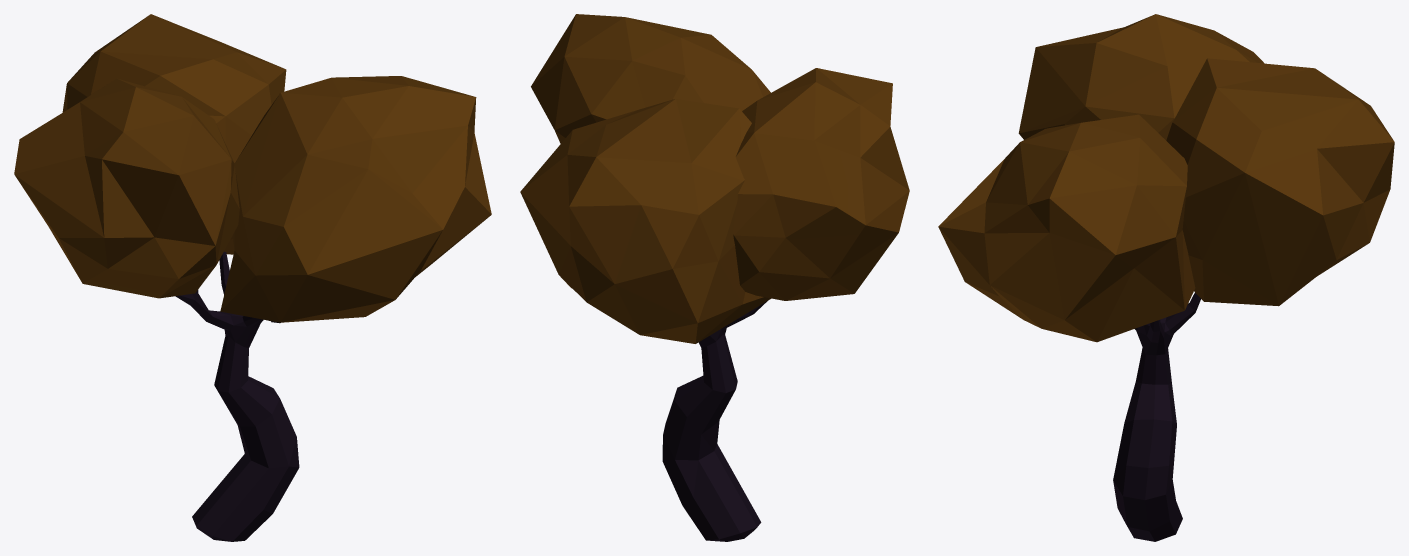
Rendered from Tree02_JT 1.fbx.
The picture shows the model from 3 angles, left to right: view 1: azimuth 30°, elevation 25°; view 2: azimuth 150°, elevation 25°; view 3: azimuth 270°, elevation 25°; orthographic projection.
Parts seen in each view (by area): view 1: Tree02_JT; view 2: Tree02_JT; view 3: Tree02_JT.
Boxes of the visible parts, bbox=[...] form: Tree02_JT: bbox=[14, 14, 491, 541]; Tree02_JT: bbox=[520, 14, 909, 541]; Tree02_JT: bbox=[938, 14, 1394, 541].
Size of the model in its own units: 450 by 525 by 457.
